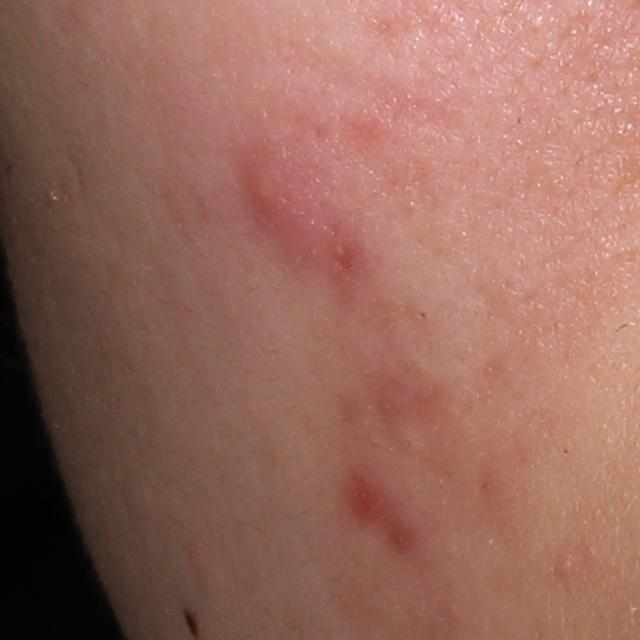comedo: (416, 308, 432, 322)
papule: (249, 151, 318, 238), (344, 468, 388, 530), (549, 550, 584, 580), (186, 544, 213, 579)
